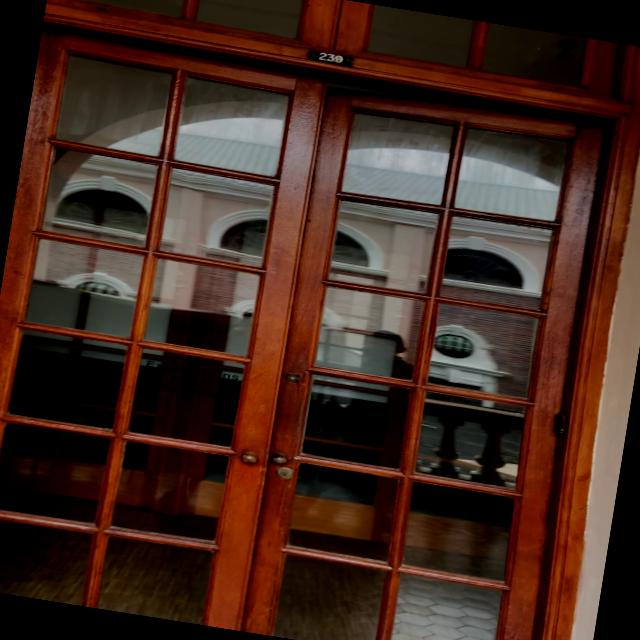room239: (308, 46, 354, 68)
